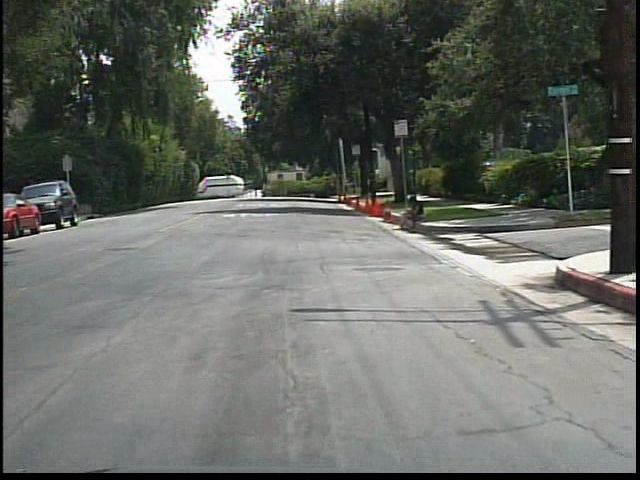person: (392, 191, 427, 236)
